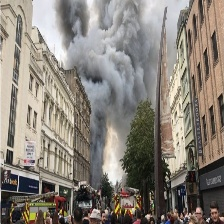smoke: (51, 1, 161, 184)
